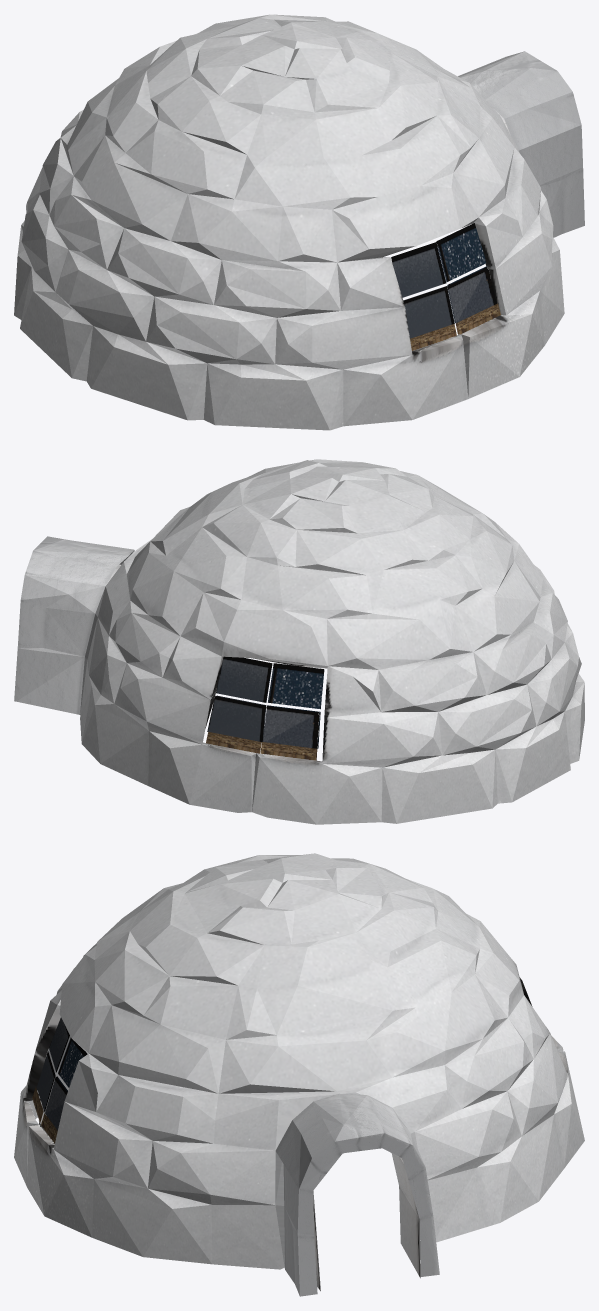
The model's file is Igloo.FBX.
3 renders of one model, top to bottom at view 1: azimuth 30°, elevation 25°; view 2: azimuth 150°, elevation 25°; view 3: azimuth 270°, elevation 25°, orthographic. The views are drawn at different scales.
Parts seen in each view (by area): view 1: default; view 2: default; view 3: default.
Part boxes in pixels (left/top/right/bottom): default: left=14, top=14, right=584, bottom=430; default: left=14, top=459, right=584, bottom=824; default: left=14, top=853, right=584, bottom=1296.
Size of the model in its own units: 220 by 109 by 197.
